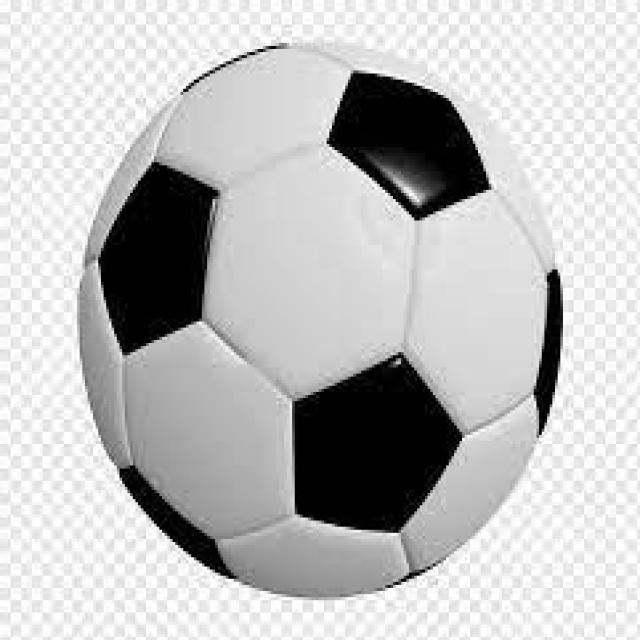Soccer Ball: (69, 40, 568, 603)
